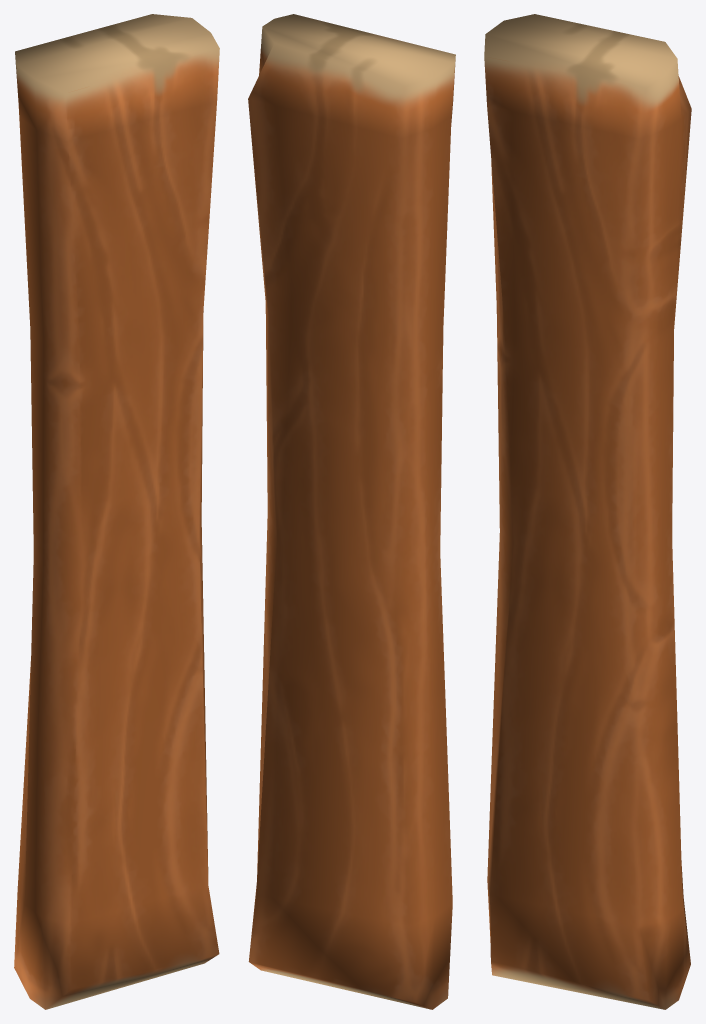
File: fance6.fbx
3 views of the same model, side by side, from view 1: azimuth 30°, elevation 25°; view 2: azimuth 150°, elevation 25°; view 3: azimuth 330°, elevation 25° (orthographic).
Parts seen in each view (by area): view 1: Retopo_Cube.011; view 2: Retopo_Cube.011; view 3: Retopo_Cube.011.
Part boxes in pixels (x1=…): Retopo_Cube.011: x1=14, y1=14, x2=219, y2=1009; Retopo_Cube.011: x1=248, y1=14, x2=455, y2=1009; Retopo_Cube.011: x1=484, y1=14, x2=691, y2=1009.
Bounding box in the file's own units: 98.83 × 496 × 48.37.
